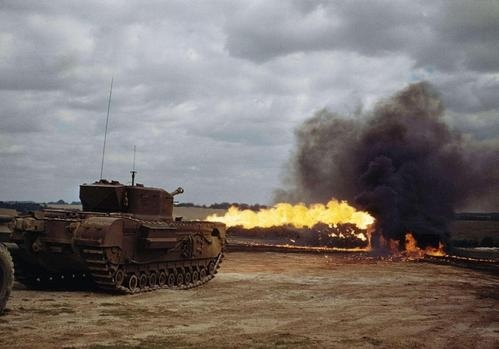fire: (203, 200, 369, 238)
